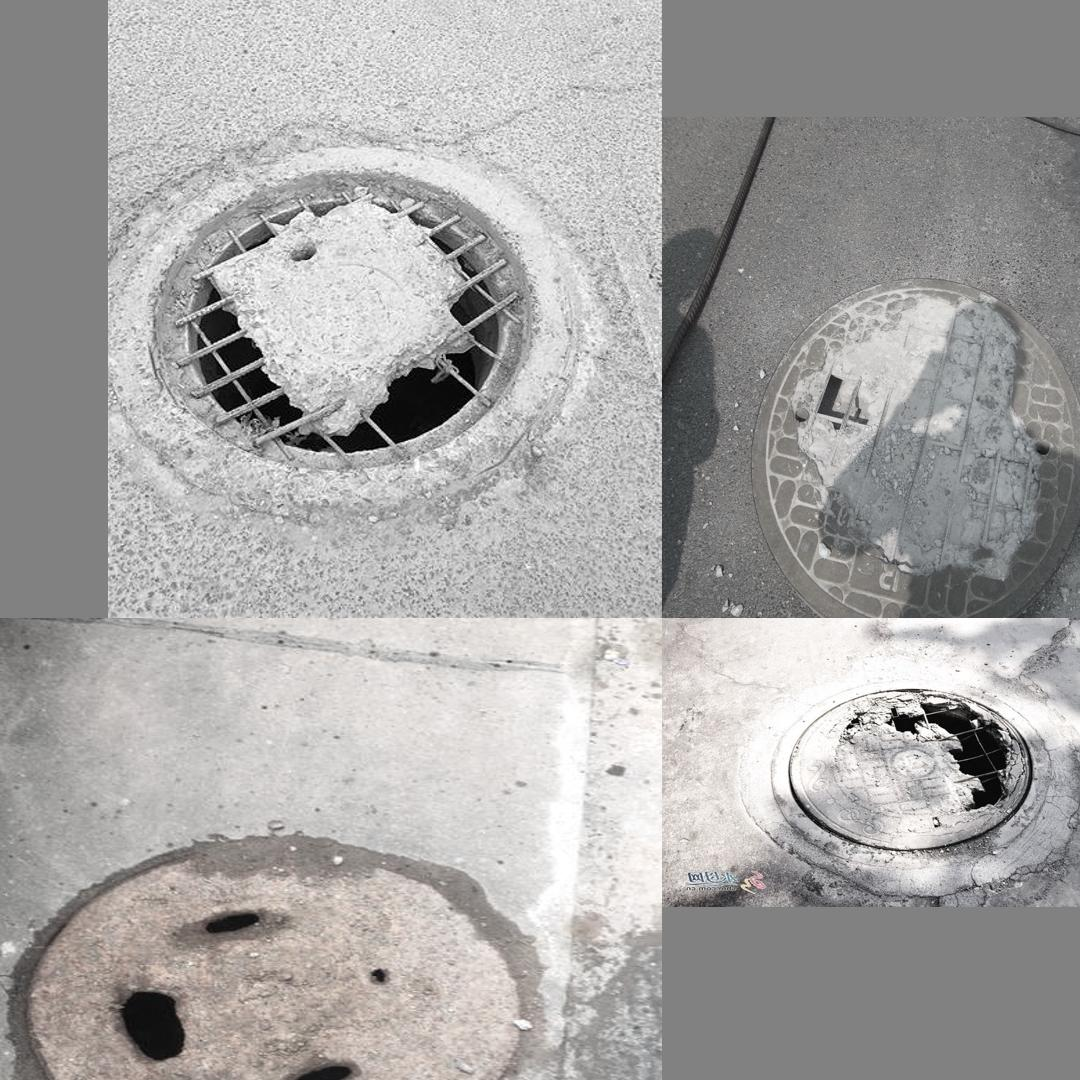broke: (128, 137, 558, 501), (0, 810, 570, 1080), (748, 274, 1080, 618), (722, 670, 1080, 885)
